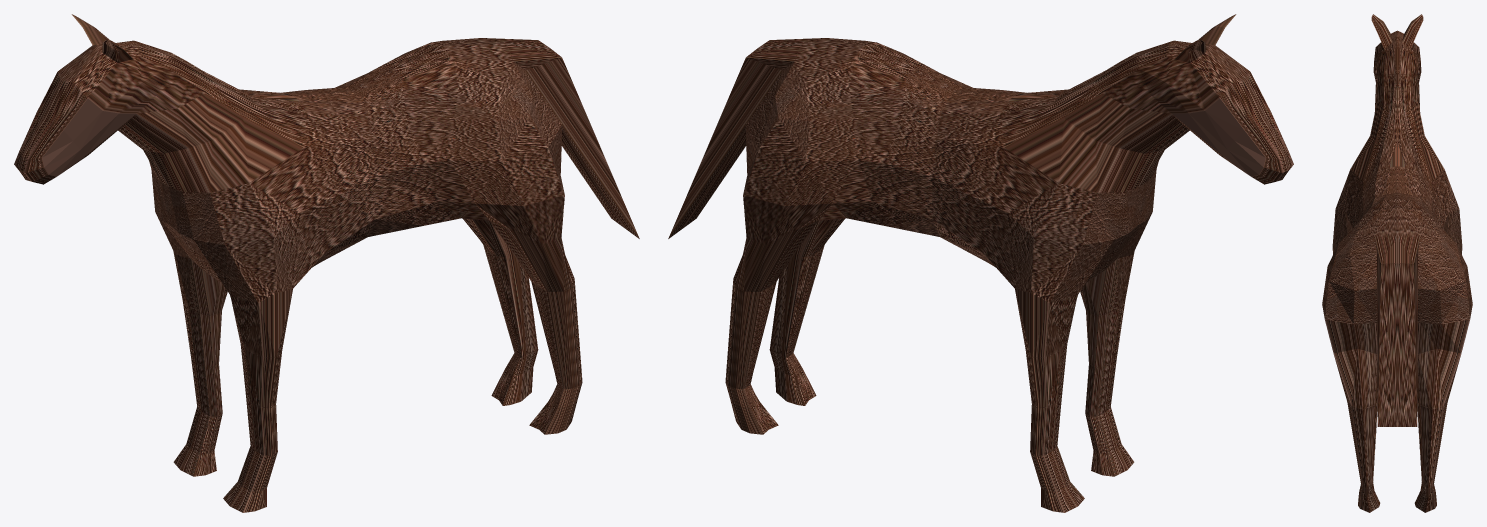
The model's file is horse_v3.obj.
3 views of the same model, side by side, from view 1: azimuth 30°, elevation 25°; view 2: azimuth 150°, elevation 25°; view 3: azimuth 270°, elevation 25° (orthographic). The views are drawn at different scales.
Parts seen in each view (by area): view 1: Cube_Cube.001; view 2: Cube_Cube.001; view 3: Cube_Cube.001.
Boxes of the visible parts, <box> form: Cube_Cube.001: <box>14,14,639,512</box>; Cube_Cube.001: <box>668,14,1293,512</box>; Cube_Cube.001: <box>1322,14,1472,512</box>.
Size of the model in its own units: 4.36 by 3.38 by 1.35.
Materials: 1 (1 with a texture image).
